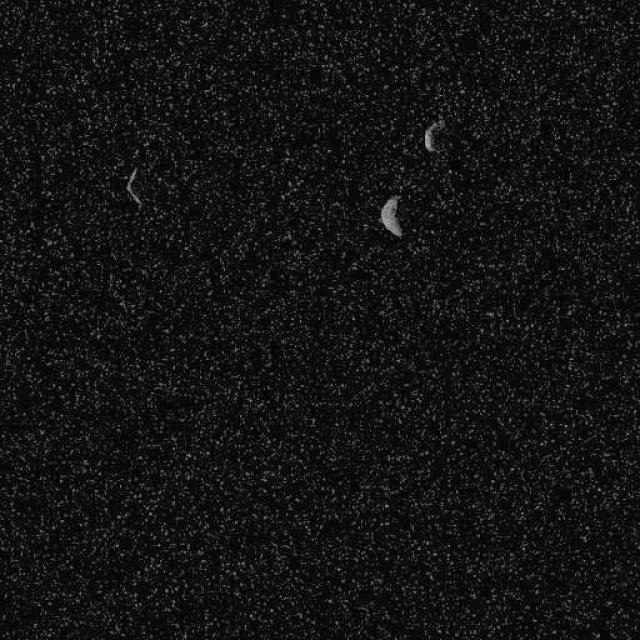D2: (378, 194, 402, 238), (422, 118, 447, 152), (124, 165, 142, 206)
